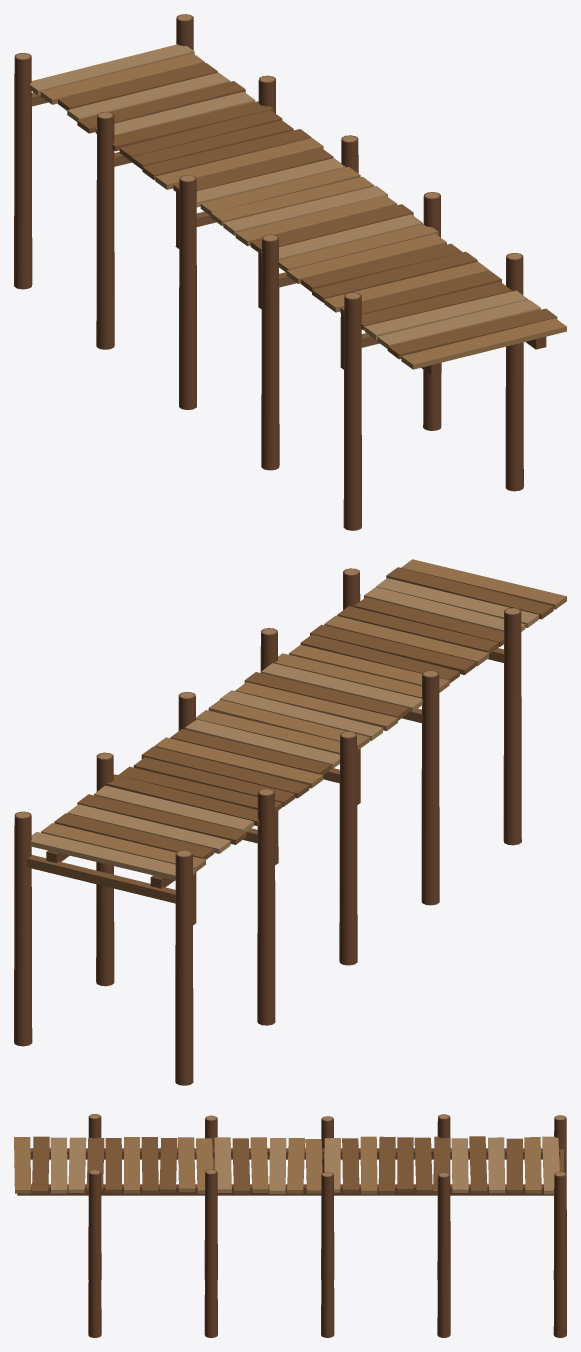
File: pier.glb
3 renders of one model, top to bottom at view 1: azimuth 30°, elevation 25°; view 2: azimuth 150°, elevation 25°; view 3: azimuth 270°, elevation 25°, orthographic. The views are drawn at different scales.
Visible parts, largest first — view 1: pier; view 2: pier; view 3: pier.
Part boxes in pixels (x1,y1,x2,y2): pier: (14,14,566,530); pier: (14,559,566,1085); pier: (14,1114,566,1337).
Bounding box in the file's own units: 3.72 × 4.65 × 14.26.
